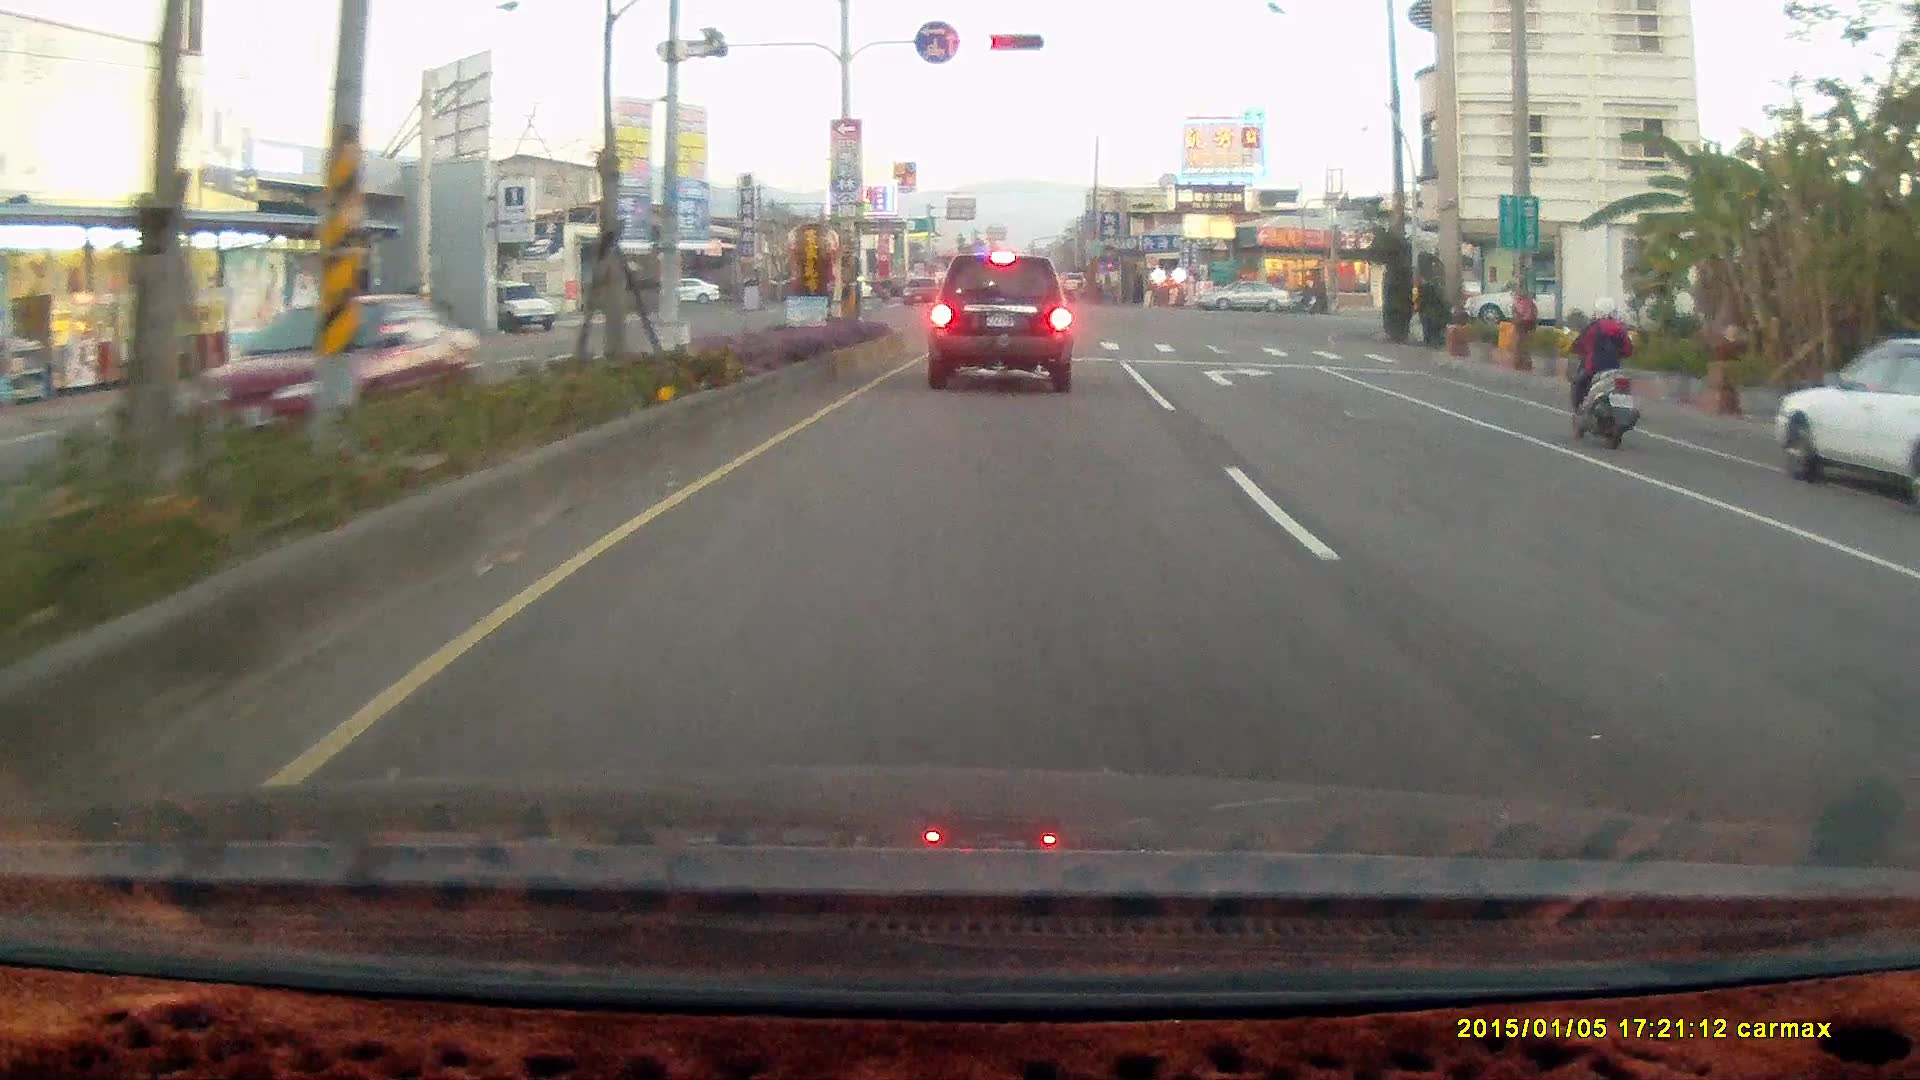rider: (1558, 292, 1640, 447), (1288, 277, 1317, 315)
vehicle: (1771, 338, 1920, 507), (1771, 337, 1919, 505), (927, 252, 1075, 393), (1896, 493, 1920, 836), (1463, 274, 1586, 331), (1883, 528, 1920, 690), (485, 280, 557, 332), (1194, 279, 1292, 316), (1193, 277, 1291, 313)
